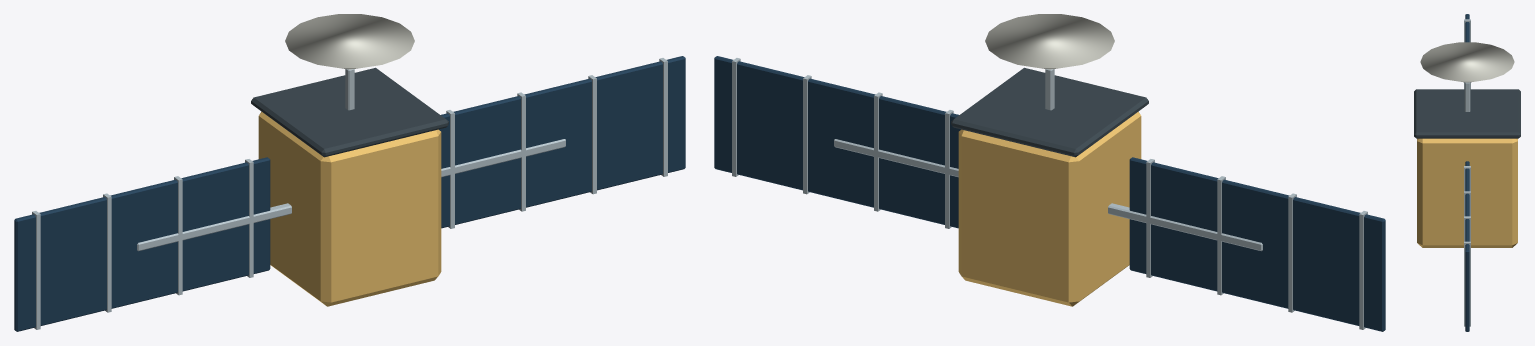
The model's file is satellite.glb.
3 renders of one model, left to right at view 1: azimuth 30°, elevation 25°; view 2: azimuth 150°, elevation 25°; view 3: azimuth 270°, elevation 25°, orthographic. The views are drawn at different scales.
Visible parts, largest first — view 1: satellite_pv, satellite_gold, satellite_dark, satellite_metal, satellite_ivory; view 2: satellite_pv, satellite_gold, satellite_dark, satellite_metal, satellite_ivory; view 3: satellite_gold, satellite_dark, satellite_ivory, satellite_metal, satellite_pv.
Boxes of the visible parts, <box> form: satellite_pv: <box>14,56,685,331</box>; satellite_gold: <box>258,111,441,306</box>; satellite_dark: <box>251,67,448,157</box>; satellite_metal: <box>32,58,667,329</box>; satellite_ivory: <box>285,14,414,69</box>; satellite_pv: <box>714,56,1385,331</box>; satellite_gold: <box>958,111,1141,306</box>; satellite_dark: <box>951,67,1148,157</box>; satellite_metal: <box>732,58,1367,329</box>; satellite_ivory: <box>985,14,1114,69</box>; satellite_gold: <box>1417,138,1517,247</box>; satellite_dark: <box>1414,89,1520,138</box>; satellite_ivory: <box>1420,42,1514,82</box>; satellite_metal: <box>1464,19,1470,326</box>; satellite_pv: <box>1465,14,1469,331</box>.
Bounding box in the file's own units: 5 × 1.75 × 0.95.
